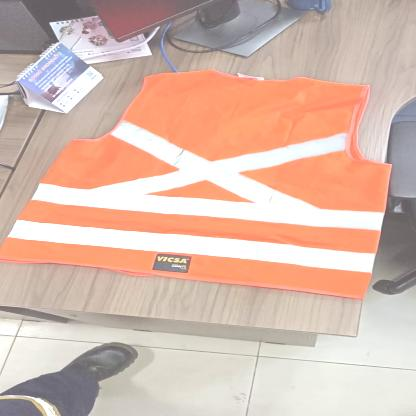colete: (9, 67, 393, 298)
